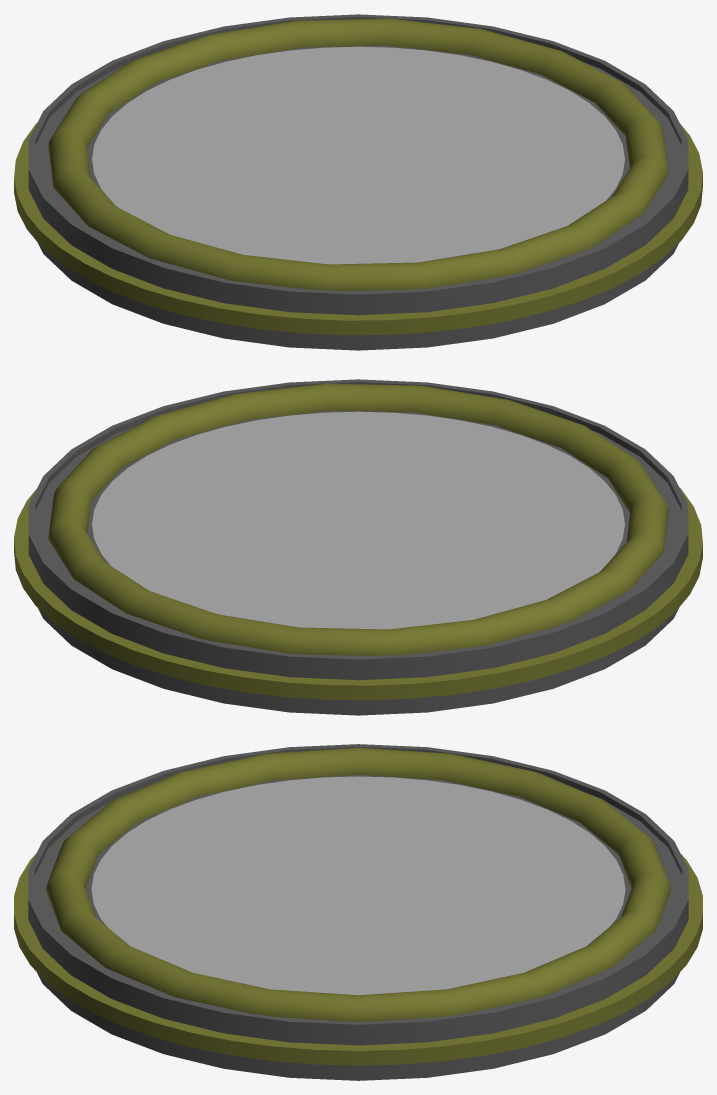
3 renders of one model, top to bottom at view 1: azimuth 30°, elevation 25°; view 2: azimuth 150°, elevation 25°; view 3: azimuth 270°, elevation 25°, orthographic.
Visible parts, largest first — view 1: pDisc1, pTorus1, pCylinder2, pCylinder3; view 2: pDisc1, pTorus1, pCylinder2, pCylinder3; view 3: pDisc1, pTorus1, pCylinder2, pCylinder3.
Boxes of the visible parts, x1,y1,x2,y2 form: pDisc1: (92,46,624,264); pTorus1: (48,18,668,290); pCylinder2: (28,14,688,350); pCylinder3: (14,123,702,335); pDisc1: (92,411,624,629); pTorus1: (48,383,668,655); pCylinder2: (28,379,688,715); pCylinder3: (14,488,702,700); pDisc1: (91,776,625,995); pTorus1: (46,747,670,1021); pCylinder2: (28,744,688,1080); pCylinder3: (14,854,702,1065).
Bounding box in the file's own units: 2.12 × 0.2285 × 2.12.
